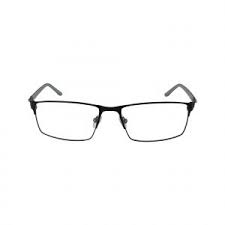g.y: (31, 99, 104, 140)
